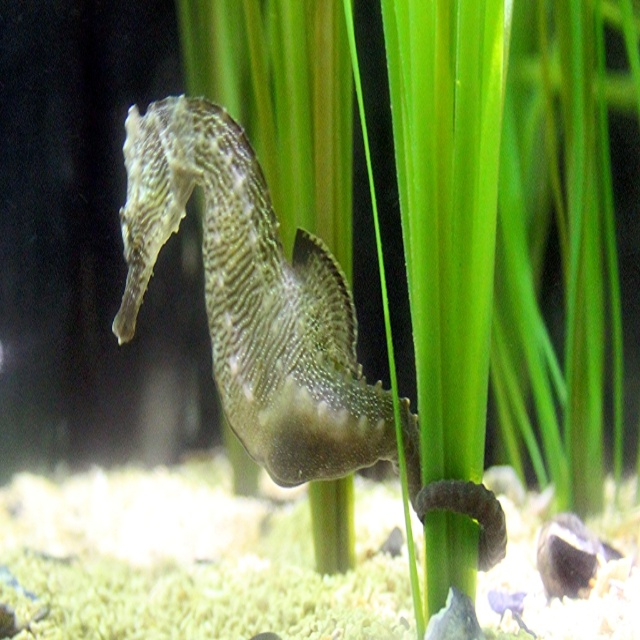Seahorse: (112, 94, 508, 573)
